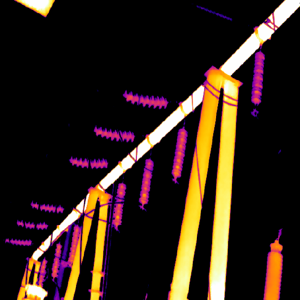insulator: (121, 89, 169, 110), (170, 126, 187, 181), (92, 121, 134, 143), (249, 49, 264, 106), (137, 156, 154, 206), (67, 151, 108, 170), (111, 180, 126, 228), (66, 223, 80, 265), (29, 198, 65, 214), (14, 216, 49, 230), (49, 242, 61, 280), (3, 233, 32, 247), (37, 256, 46, 285)
